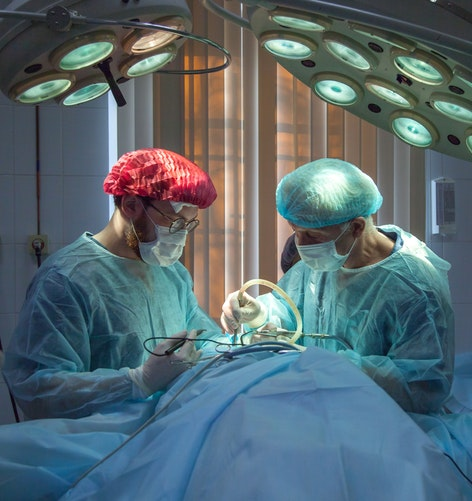mask: (140, 223, 194, 272), (291, 243, 351, 275)
